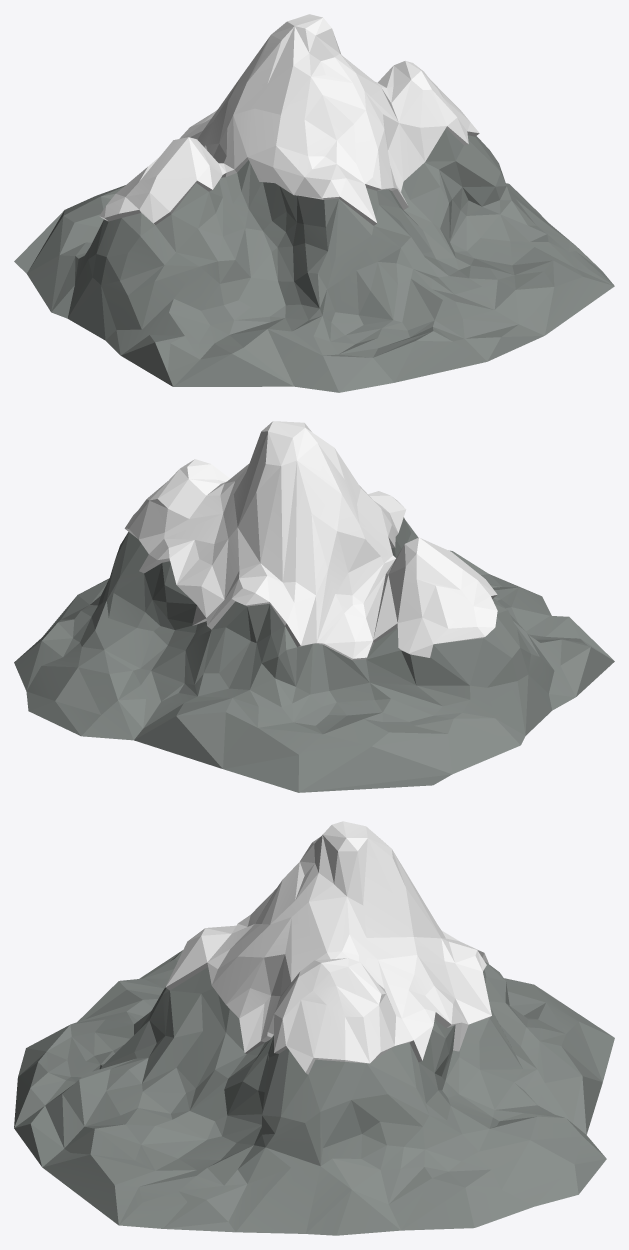
Rendered from snow_mountain.glb.
3 views of the same model, one above another, from view 1: azimuth 30°, elevation 25°; view 2: azimuth 150°, elevation 25°; view 3: azimuth 270°, elevation 25° (orthographic). The views are drawn at different scales.
Visible parts, largest first — view 1: SM_Generic_Mountains_Snow_01_SM_Generic_Mountains_Snow_01_Po; view 2: SM_Generic_Mountains_Snow_01_SM_Generic_Mountains_Snow_01_Po; view 3: SM_Generic_Mountains_Snow_01_SM_Generic_Mountains_Snow_01_Po.
Part boxes in pixels (box(x1,y1,x2,y2)): SM_Generic_Mountains_Snow_01_SM_Generic_Mountains_Snow_01_Po: box(14, 14, 614, 392); SM_Generic_Mountains_Snow_01_SM_Generic_Mountains_Snow_01_Po: box(14, 421, 614, 792); SM_Generic_Mountains_Snow_01_SM_Generic_Mountains_Snow_01_Po: box(14, 821, 614, 1235).
Bounding box in the file's own units: 20.77 × 10.31 × 20.1.
Materials: 1 (1 with a texture image).
